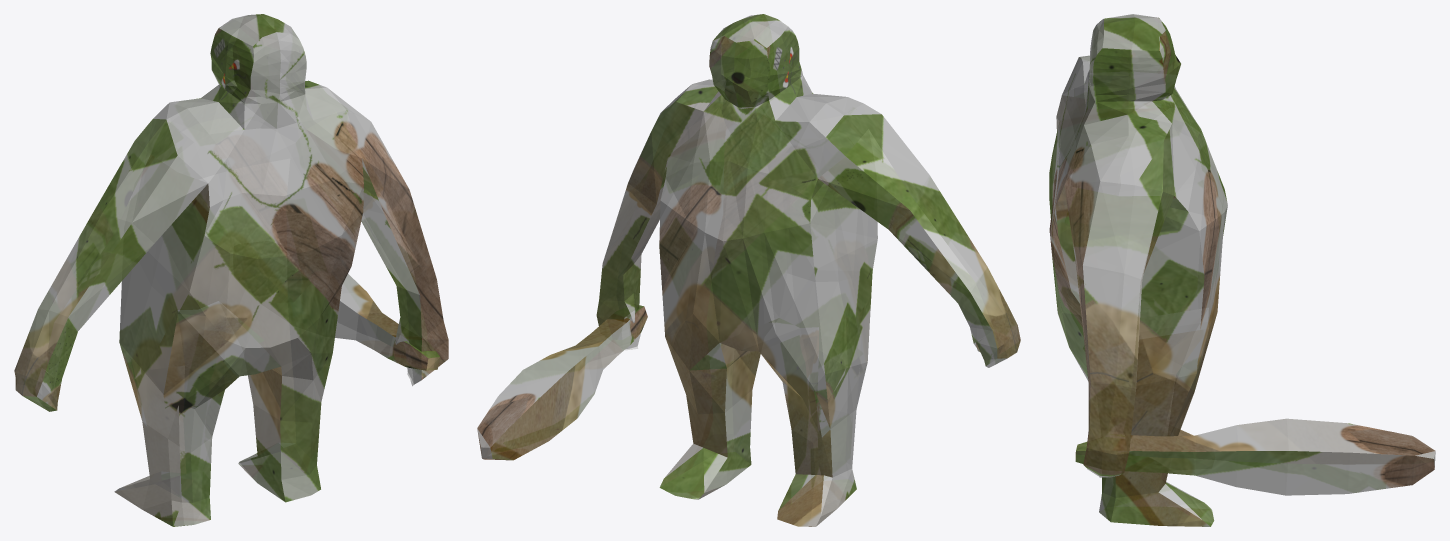
Rendered from Enemigo26.obj.
The picture shows the model from 3 angles, left to right: view 1: azimuth 30°, elevation 25°; view 2: azimuth 150°, elevation 25°; view 3: azimuth 270°, elevation 25°; orthographic projection. The views are drawn at different scales.
Visible parts, largest first — view 1: Cube; view 2: Cube; view 3: Cube.
Part boxes in pixels (box(x1,y1,x2,y2)): Cube: box(14, 14, 448, 526); Cube: box(477, 14, 1020, 526); Cube: box(1049, 14, 1435, 526).
Size of the model in its own units: 2.51 by 2.7 by 1.95.
Materials: 1 (1 with a texture image).
